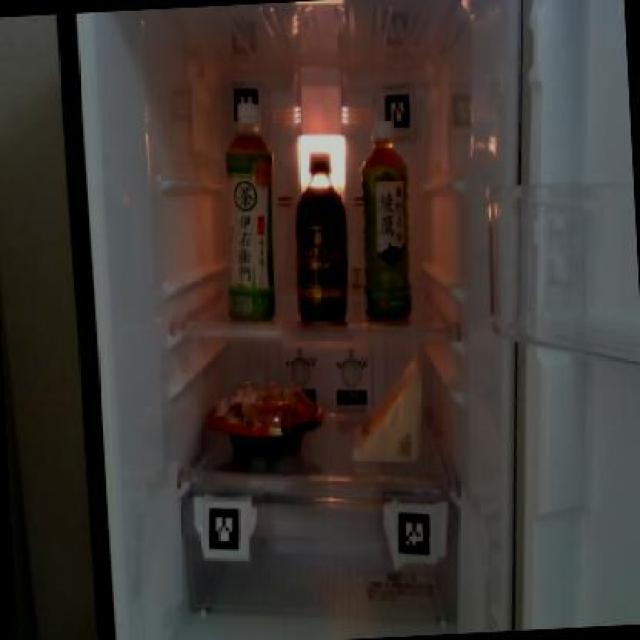bento: (206, 384, 326, 461)
coffee: (287, 148, 351, 326)
sandwich: (346, 360, 425, 462)
tea_a: (354, 127, 414, 322)
tea_i: (218, 120, 280, 325)
